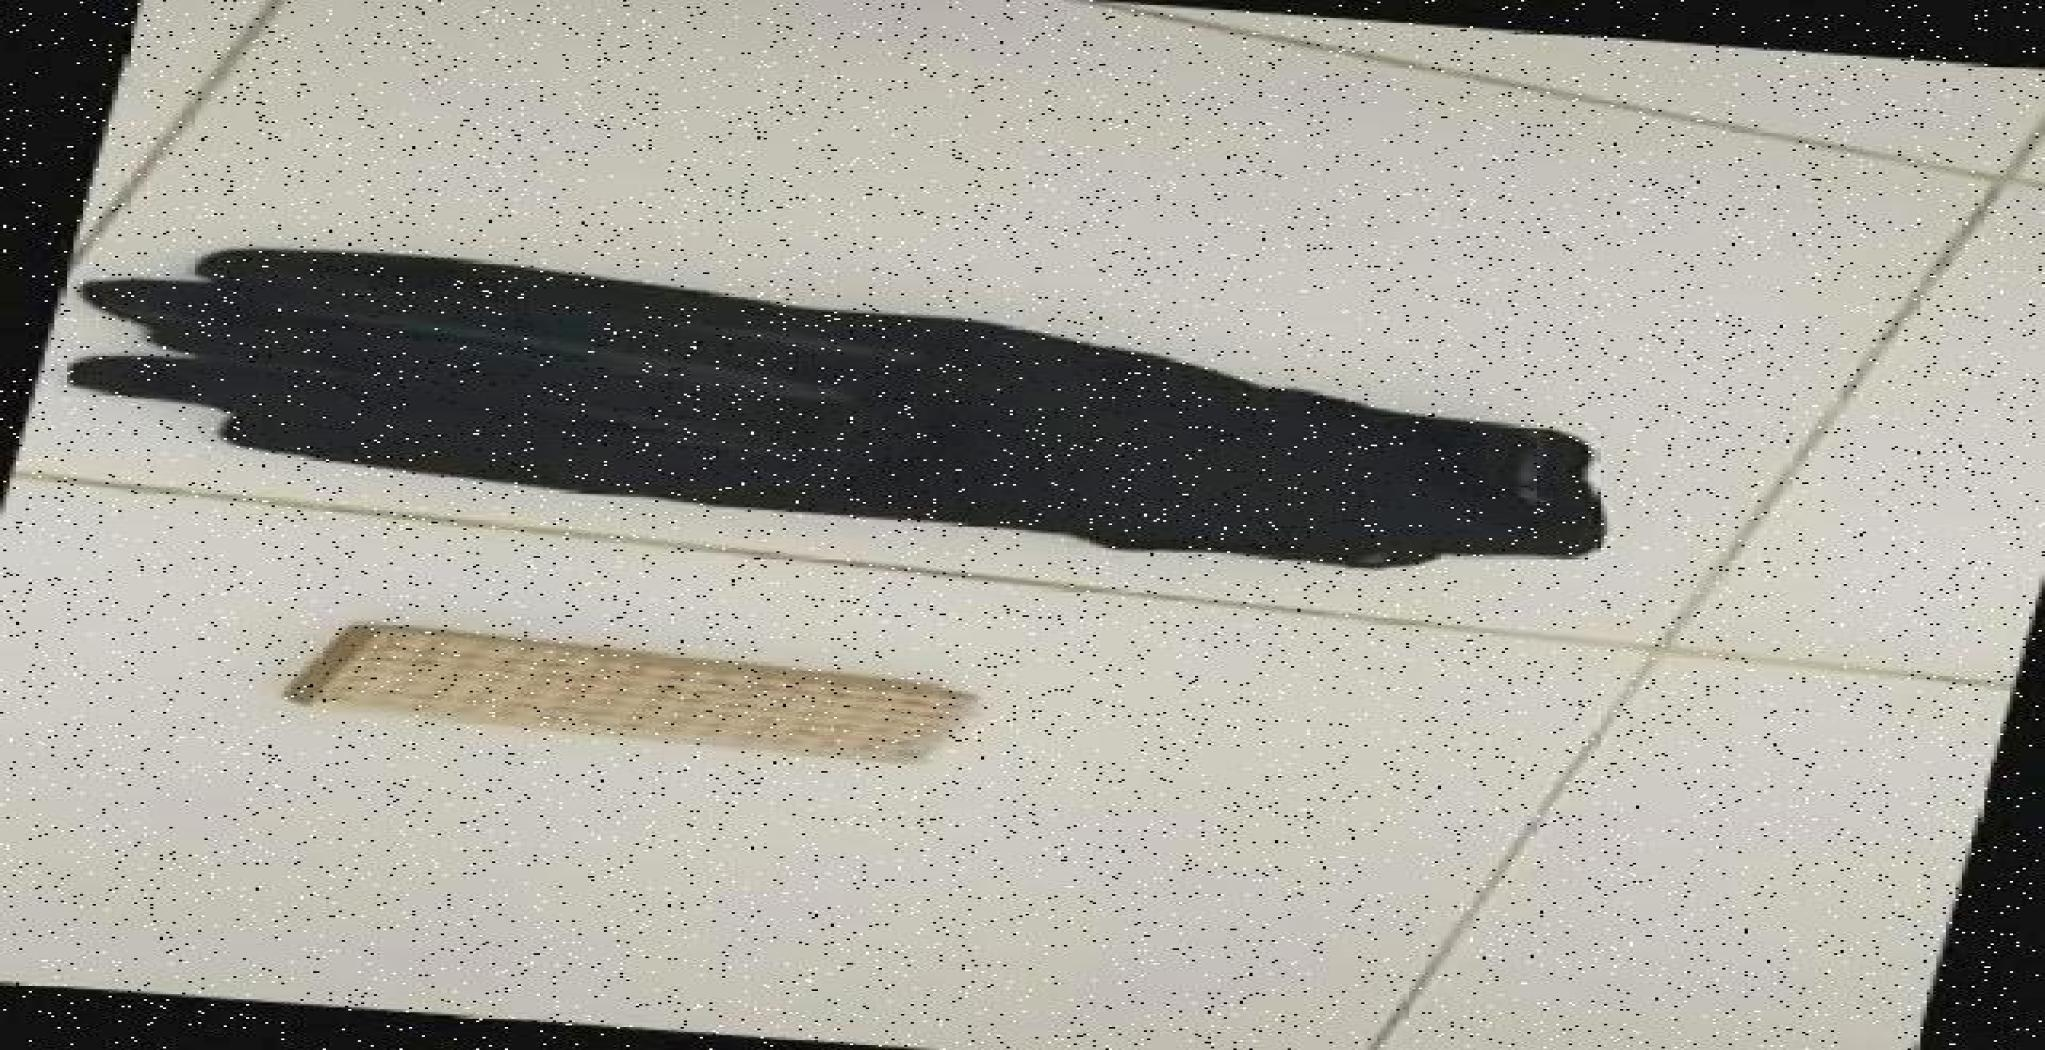gloved: (64, 245, 1607, 568)
